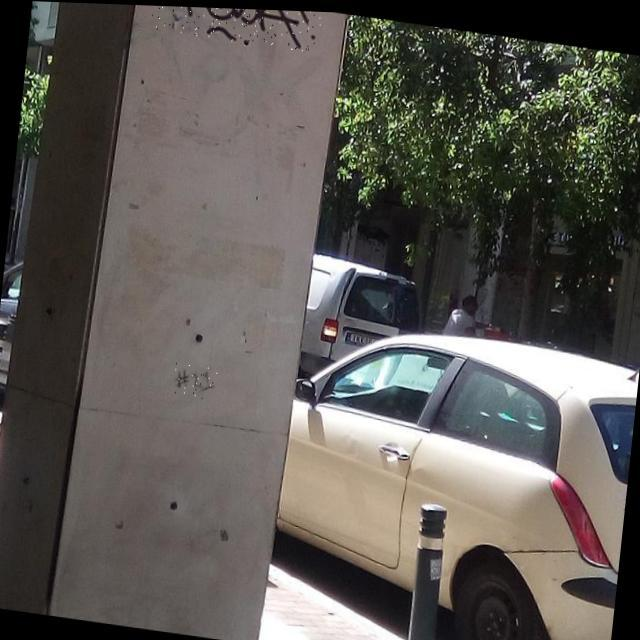-: (150, 5, 322, 50), (171, 361, 217, 398)
